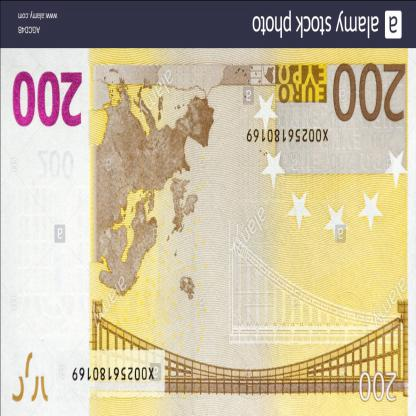euro_banknote: (2, 50, 410, 416)
